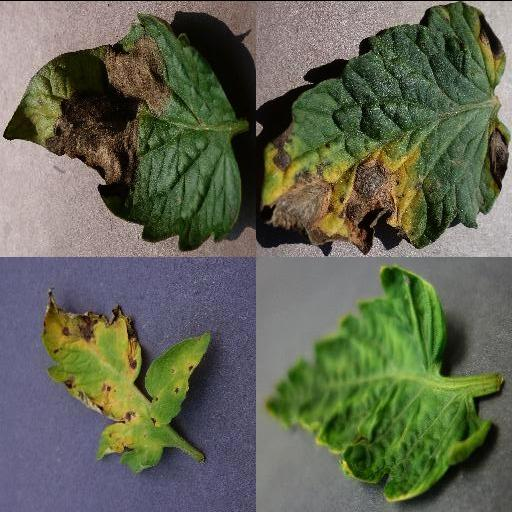Early Blight: (256, 1, 512, 250)
Late Blight: (1, 12, 241, 250)
Septoria: (42, 286, 214, 470)
Yellow Leaf Curl Virus: (265, 264, 491, 502)
